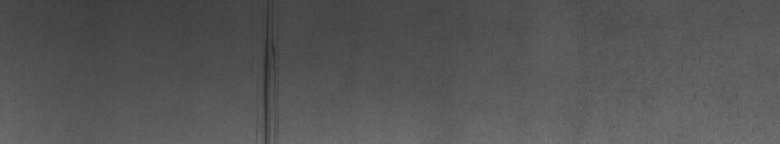hd: (256, 4, 275, 136)
